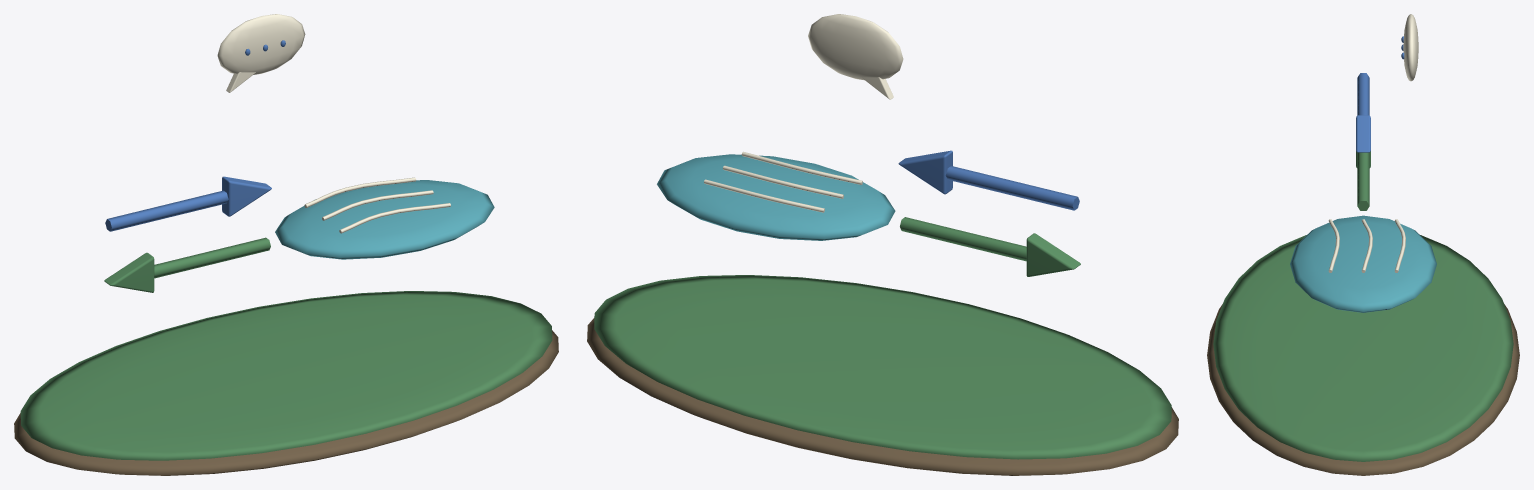
The model's file is complete-third-crossing-flow.glb.
3 views of the same model, side by side, from view 1: azimuth 30°, elevation 25°; view 2: azimuth 150°, elevation 25°; view 3: azimuth 270°, elevation 25° (orthographic). The views are drawn at different scales.
Parts seen in each view (by area): view 1: complete-third-crossing-flow_surface_01, complete-third-crossing-flow_surface_03, complete-third-crossing-flow_surface_00, complete-third-crossing-flow_surface_04, complete-third-crossing-flow_surface_02; view 2: complete-third-crossing-flow_surface_01, complete-third-crossing-flow_surface_03, complete-third-crossing-flow_surface_00, complete-third-crossing-flow_surface_04, complete-third-crossing-flow_surface_02; view 3: complete-third-crossing-flow_surface_01, complete-third-crossing-flow_surface_03, complete-third-crossing-flow_surface_00, complete-third-crossing-flow_surface_04, complete-third-crossing-flow_surface_02.
Part boxes in pixels (x1,y1,x2,y2): complete-third-crossing-flow_surface_01: [20, 237, 552, 460]; complete-third-crossing-flow_surface_03: [275, 180, 494, 259]; complete-third-crossing-flow_surface_00: [14, 330, 558, 475]; complete-third-crossing-flow_surface_04: [217, 14, 450, 233]; complete-third-crossing-flow_surface_02: [105, 40, 285, 231]; complete-third-crossing-flow_surface_01: [594, 217, 1171, 459]; complete-third-crossing-flow_surface_03: [657, 154, 895, 240]; complete-third-crossing-flow_surface_00: [587, 318, 1178, 475]; complete-third-crossing-flow_surface_04: [704, 14, 903, 212]; complete-third-crossing-flow_surface_02: [898, 150, 1079, 210]; complete-third-crossing-flow_surface_01: [1213, 151, 1513, 461]; complete-third-crossing-flow_surface_03: [1290, 215, 1436, 312]; complete-third-crossing-flow_surface_00: [1207, 304, 1519, 475]; complete-third-crossing-flow_surface_04: [1328, 14, 1418, 272]; complete-third-crossing-flow_surface_02: [1356, 36, 1404, 152].
Size of the model in its own units: 4.56 by 3.08 by 2.5.
